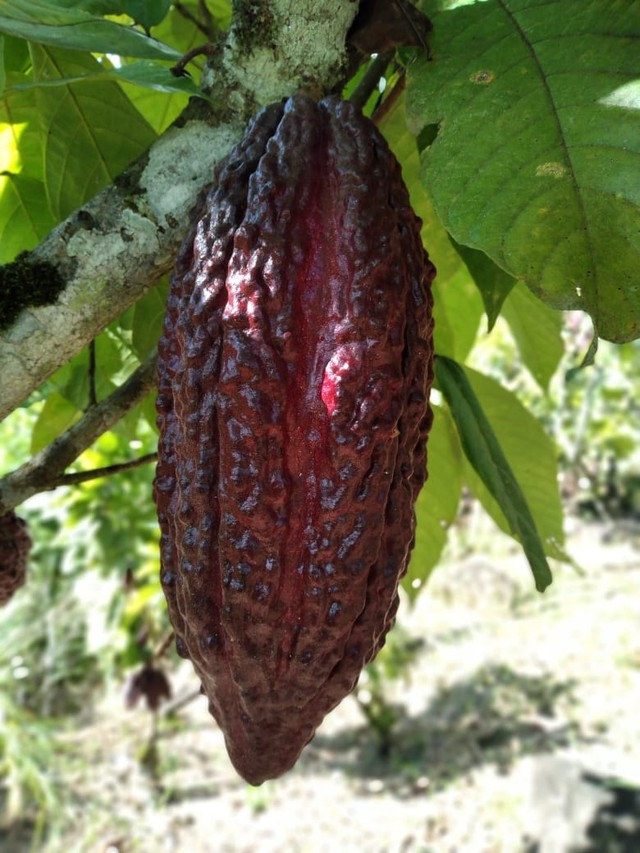Health: (132, 69, 457, 793)
